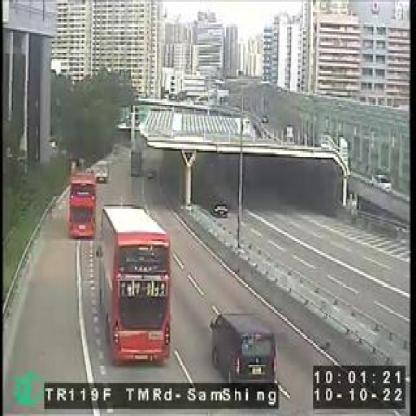Bus: (68, 170, 97, 235)
Car: (210, 308, 277, 383), (212, 203, 228, 218)
Truck: (94, 205, 170, 363)
